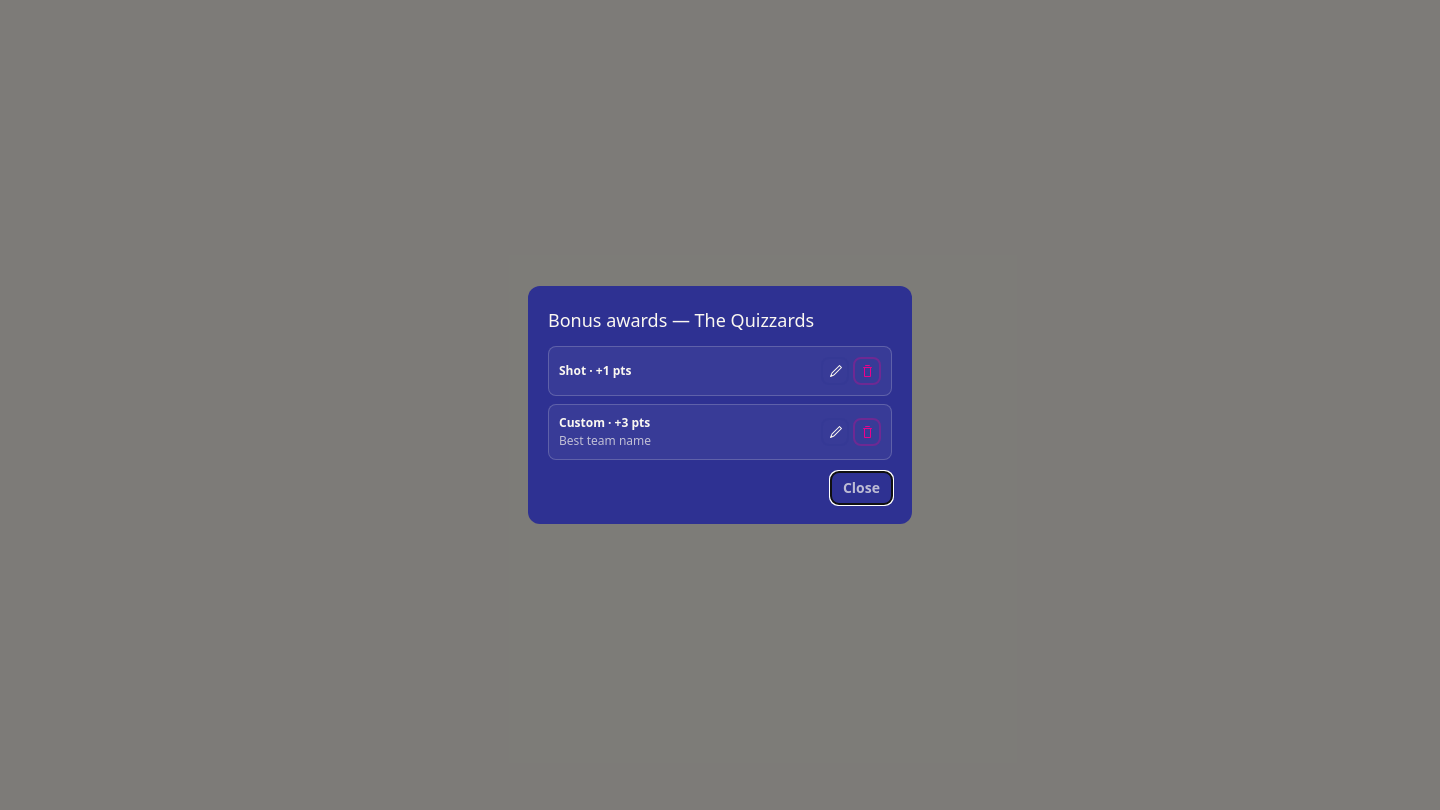
BonusAwardsListModal › disables saving a custom-category award while the reason is blank
Expected: the text "Custom · +3 pts" is shown, [559,415,651,431]
Click the button named "edit custom award": (835, 432) [821,418,849,446]
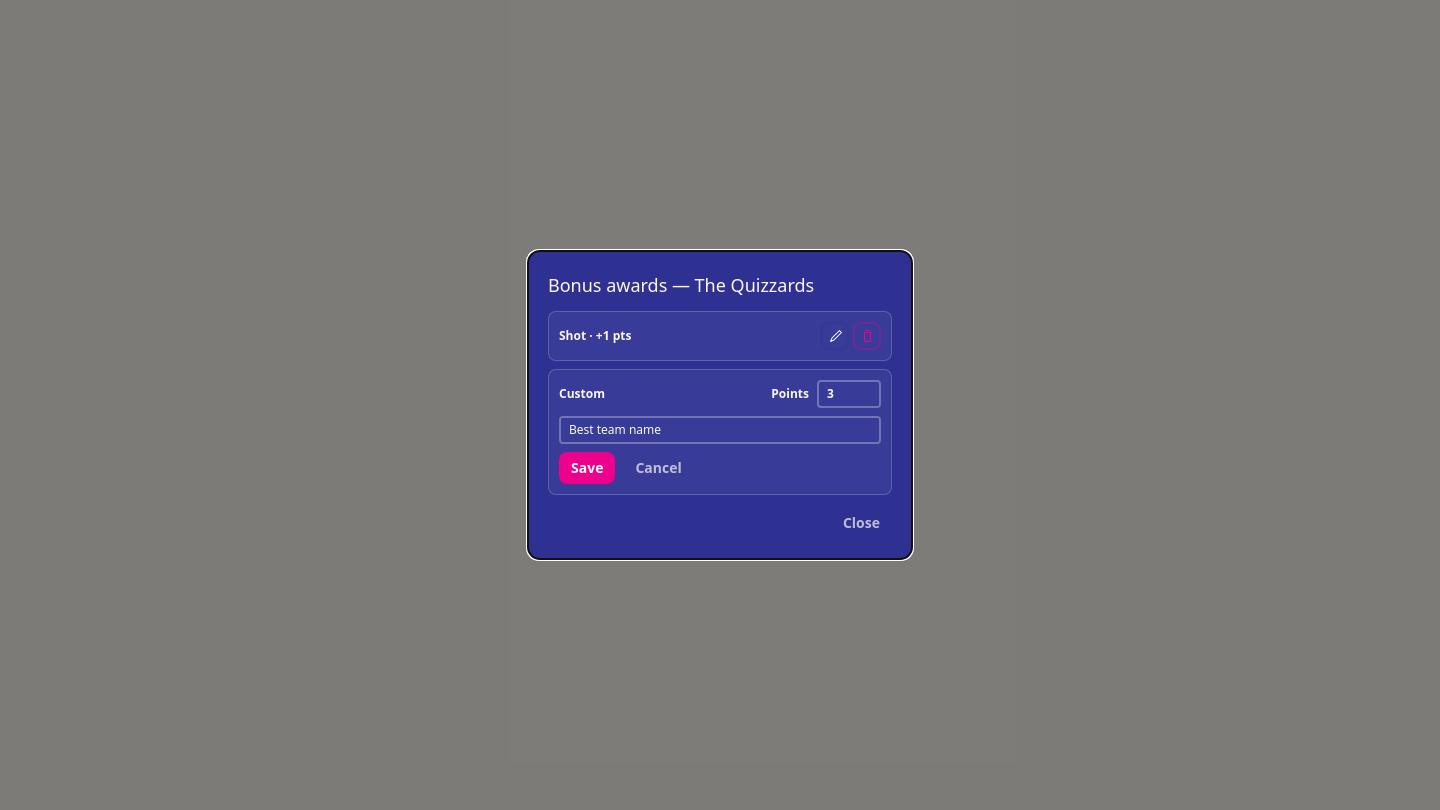
Clear the field named "bonus reason": (720, 430) [559,416,881,444]
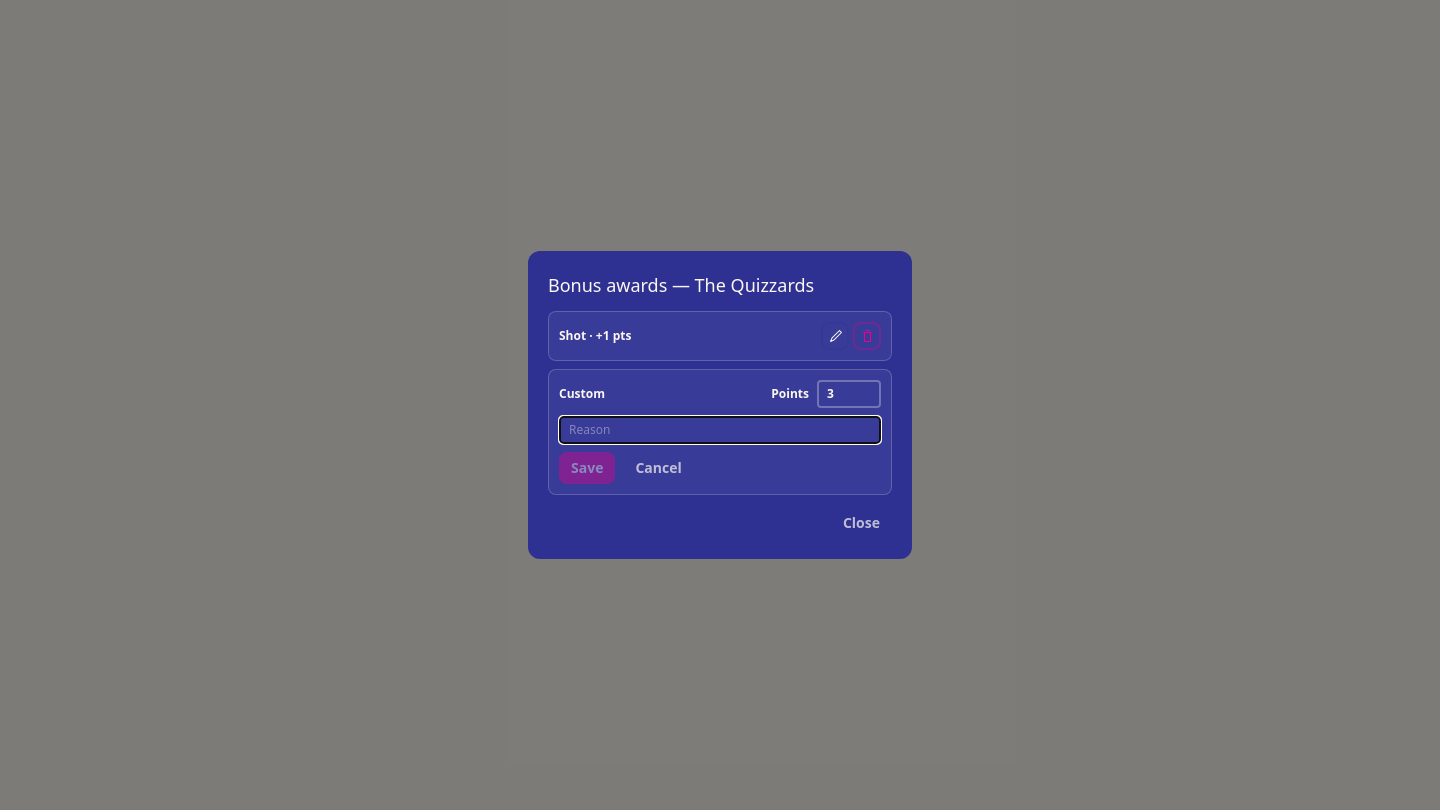
Result: the button "Save" is disabled at [559,452,615,484]
